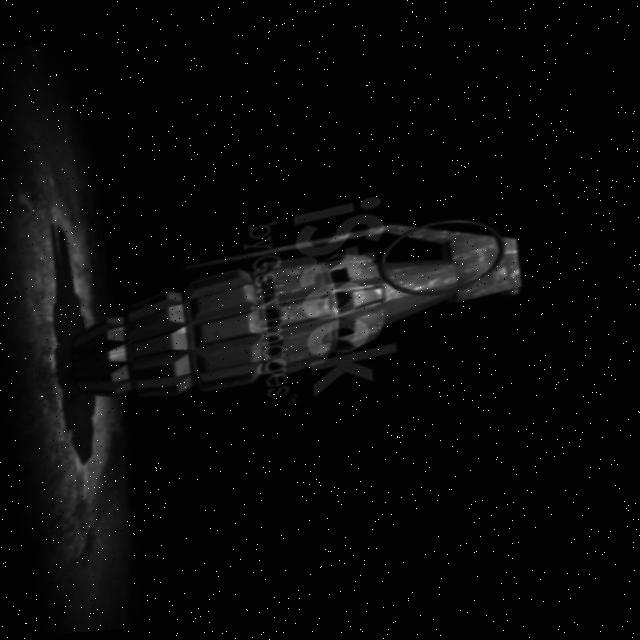grenade: (47, 188, 555, 439)
